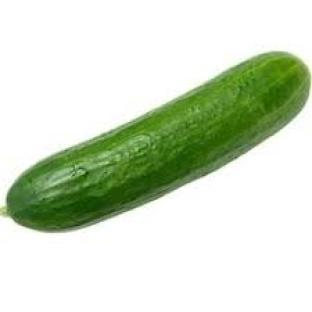Cucumber: (7, 53, 310, 231)
